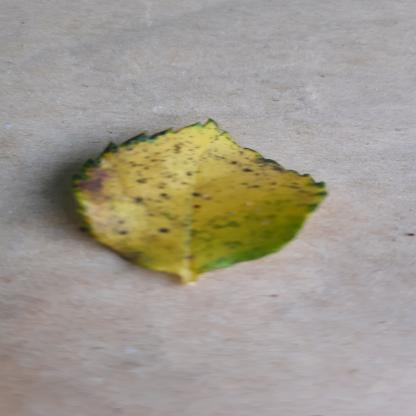black-spot: (61, 117, 329, 278)
